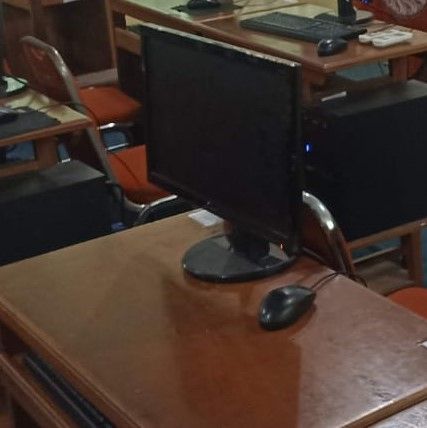monitor: (134, 24, 306, 283), (239, 10, 367, 44), (314, 0, 375, 26)
